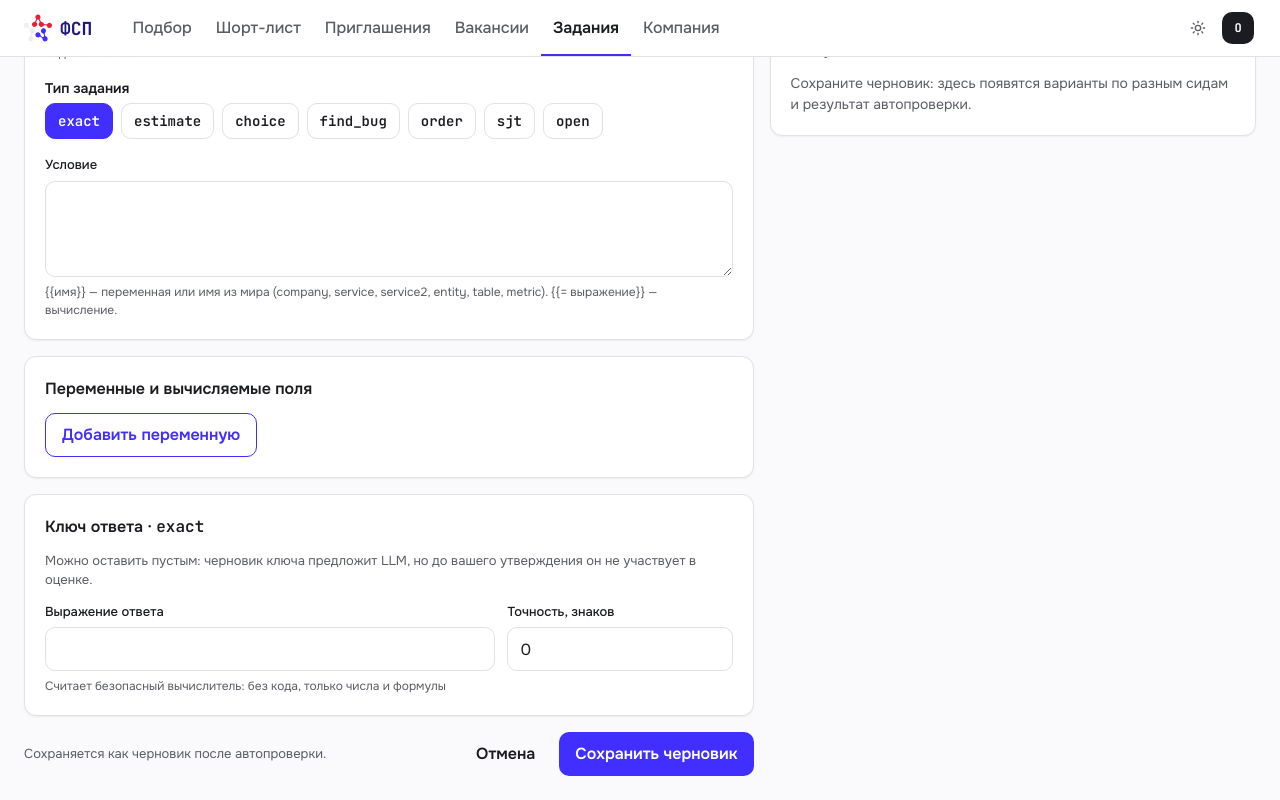
Test case: K1 конструктор › пустая форма: локальные ошибки, запроса нет
(page scrolled)
Click the button with test id "constructor-save" at coordinates (656, 754), box 559,732 -> 754,776
(page scrolled)
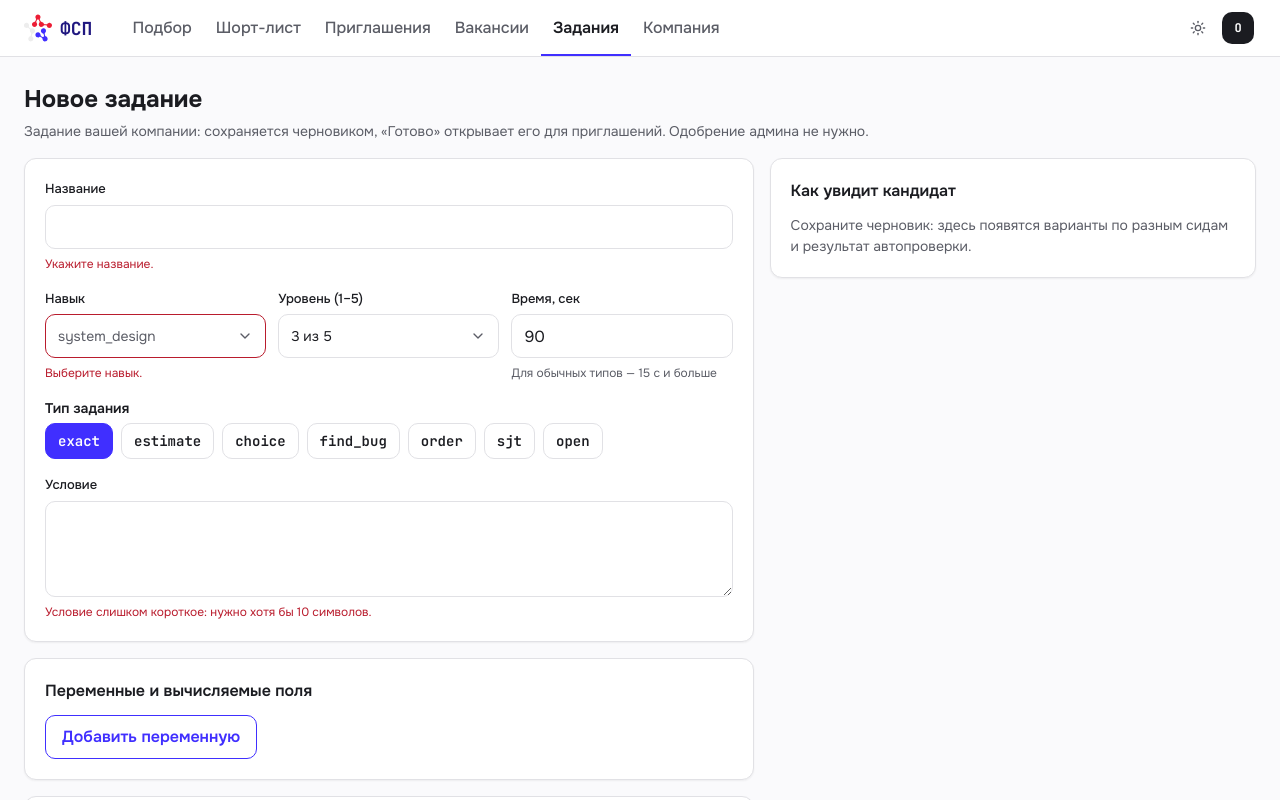
Check: the text "Укажите название." is shown, box 45,256 -> 154,272
